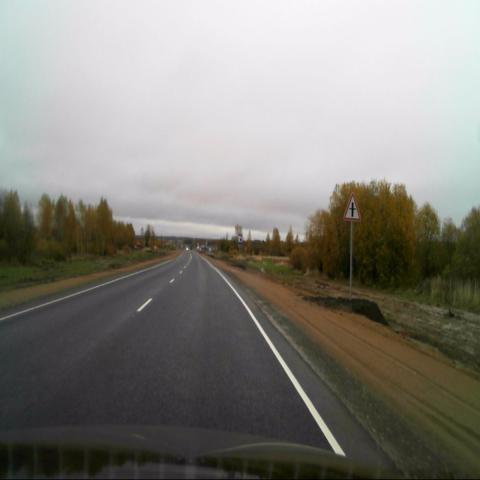2_3: (344, 192, 362, 221)
